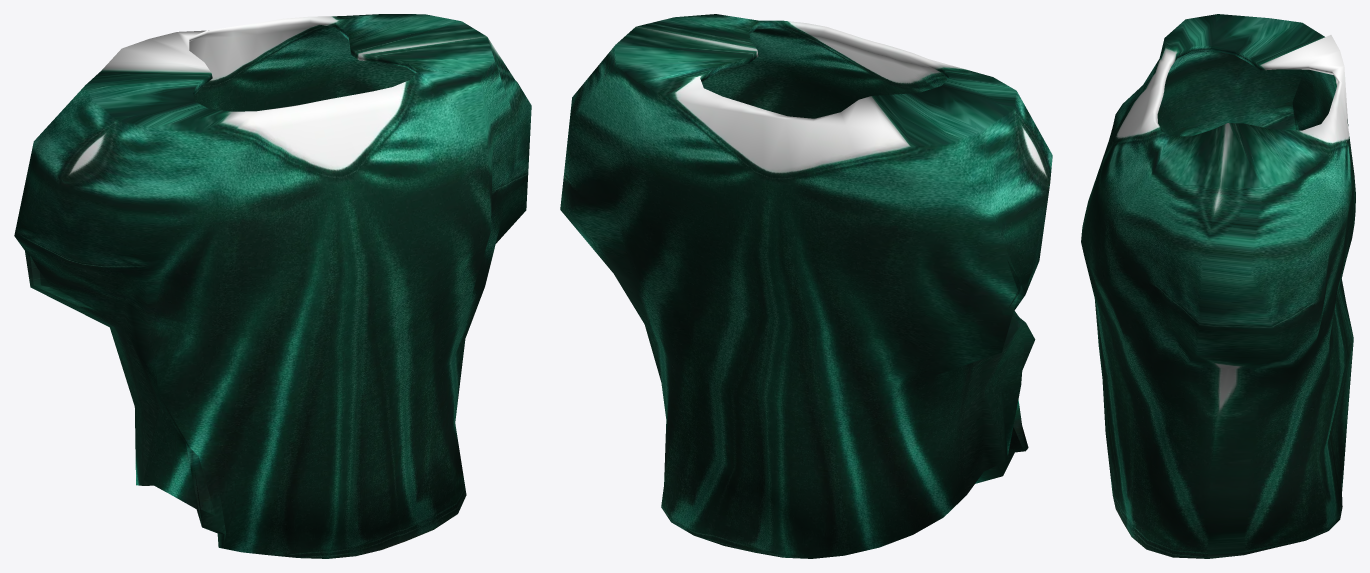
3 renders of one model, left to right at view 1: azimuth 30°, elevation 25°; view 2: azimuth 150°, elevation 25°; view 3: azimuth 270°, elevation 25°, orthographic. The views are drawn at different scales.
Visible parts, largest first — view 1: garment; view 2: garment; view 3: garment.
Part boxes in pixels (box(x1,y1,x2,y2)): garment: box(14, 14, 531, 558); garment: box(560, 14, 1052, 558); garment: box(1081, 14, 1355, 558).
Bounding box in the file's own units: 0.5656 × 0.5133 × 0.3103.
1 material, 1 textured.
